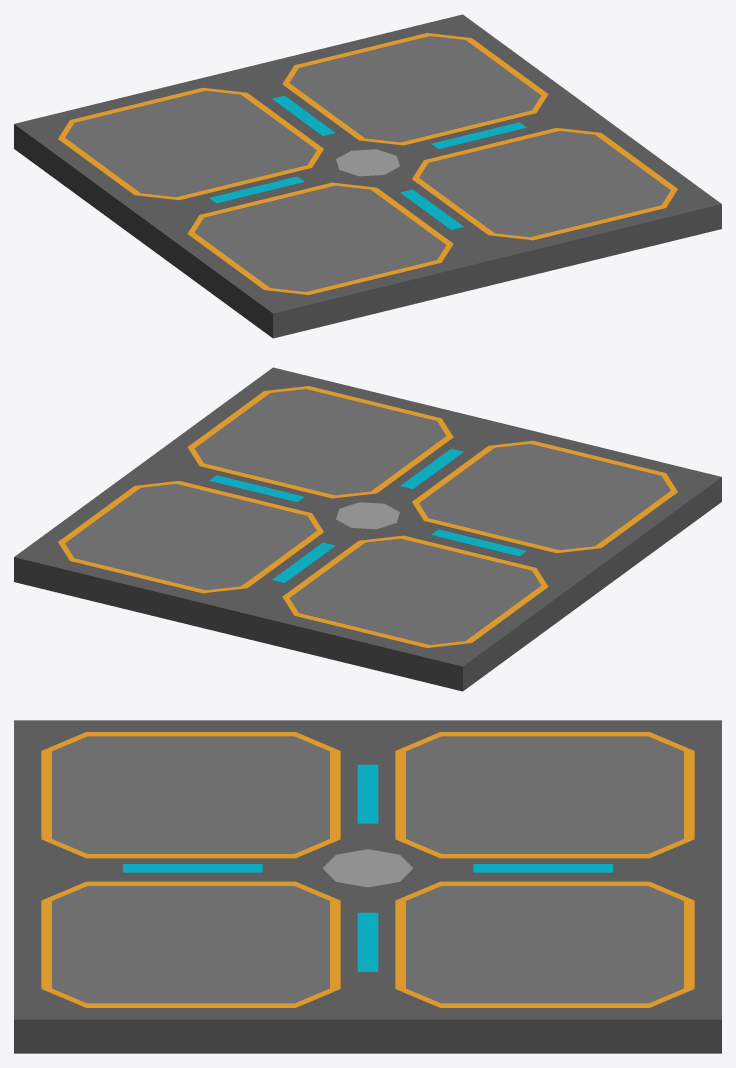
The model's file is tile_platform_009.fbx.
3 views of the same model, one above another, from view 1: azimuth 30°, elevation 25°; view 2: azimuth 150°, elevation 25°; view 3: azimuth 270°, elevation 25° (orthographic). The views are drawn at different scales.
Parts seen in each view (by area): view 1: tile_platform_009; view 2: tile_platform_009; view 3: tile_platform_009.
Part boxes in pixels (left/top/right/bottom): tile_platform_009: left=14, top=14, right=721, bottom=338; tile_platform_009: left=14, top=367, right=721, bottom=691; tile_platform_009: left=14, top=720, right=721, bottom=1053.
Size of the model in its own units: 400 by 400 by 22.26.
